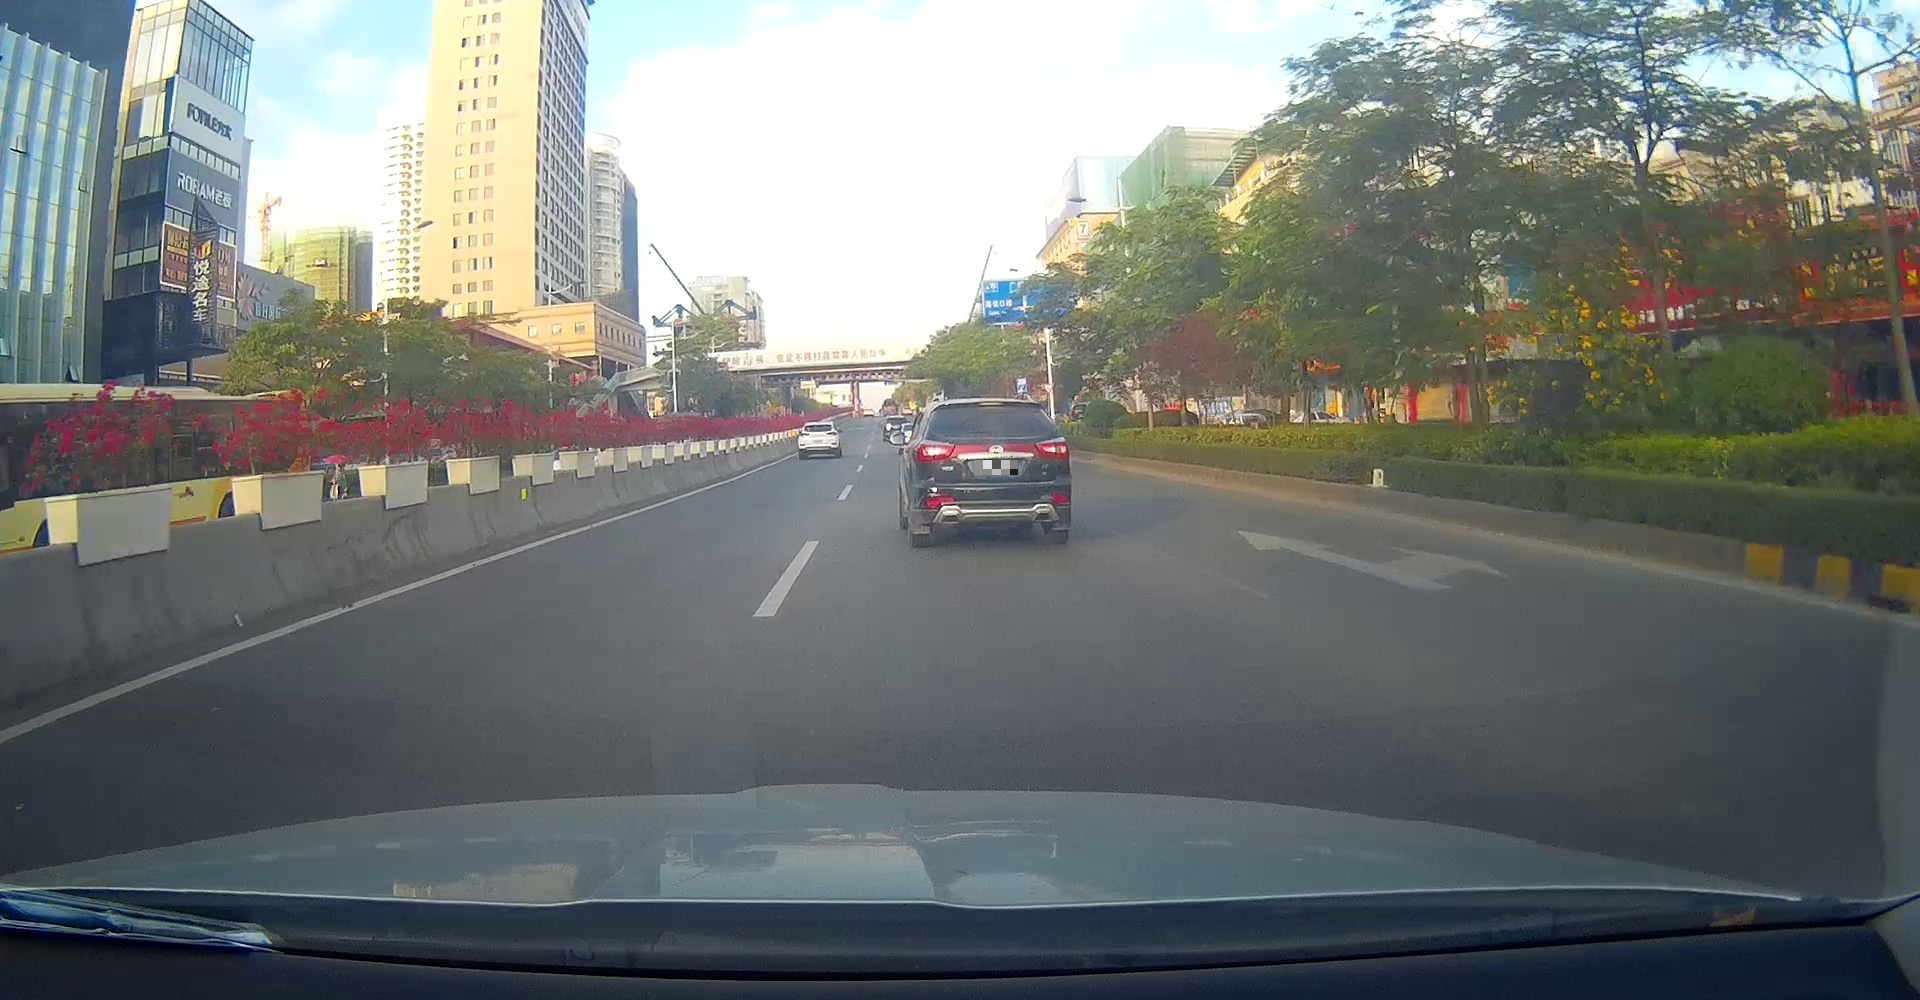L_light: (913, 440, 955, 462), (800, 433, 810, 437)
R_light: (1035, 437, 1069, 459), (827, 431, 838, 437)
T_light: (978, 402, 1003, 406), (817, 425, 822, 426)
day-no: (910, 398, 1072, 548), (797, 421, 839, 459)
plate_1: (974, 459, 1018, 475)
